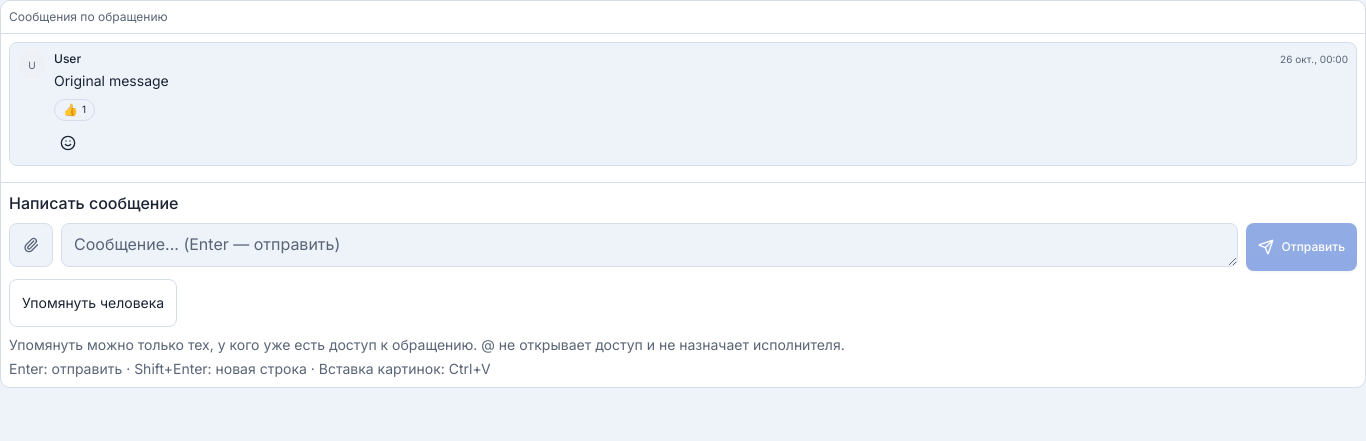
Test: reports a lost mutation acknowledgement after a bounded wait
Check: the text "Original message" is shown, box [54, 72, 169, 89]
Click the button named "👍1".
click(74, 110)  # box [54, 99, 95, 121]
Wait 10001 ms
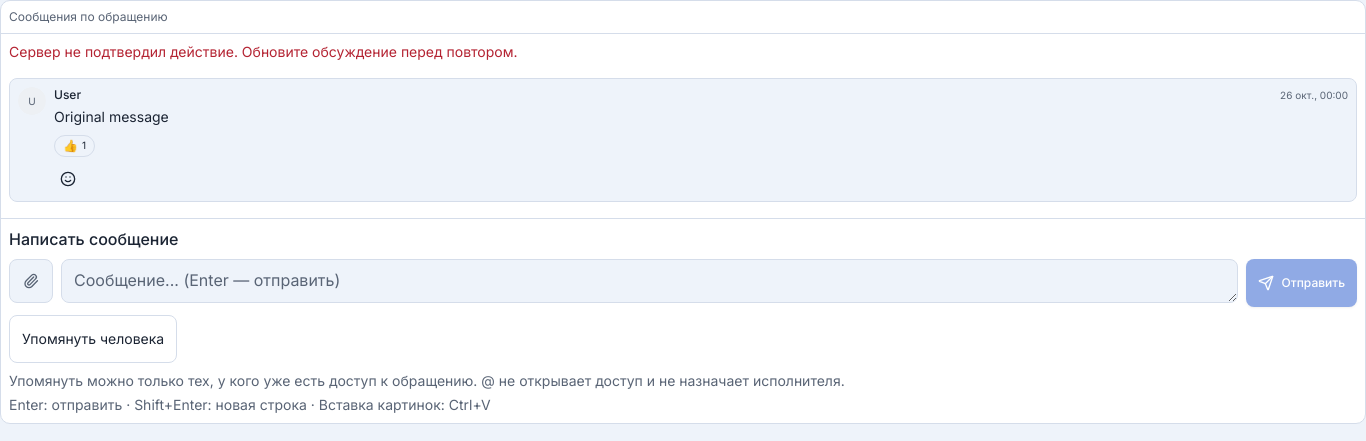
Check: the message shows "Сервер не подтвердил действие", box [9, 43, 518, 60]
